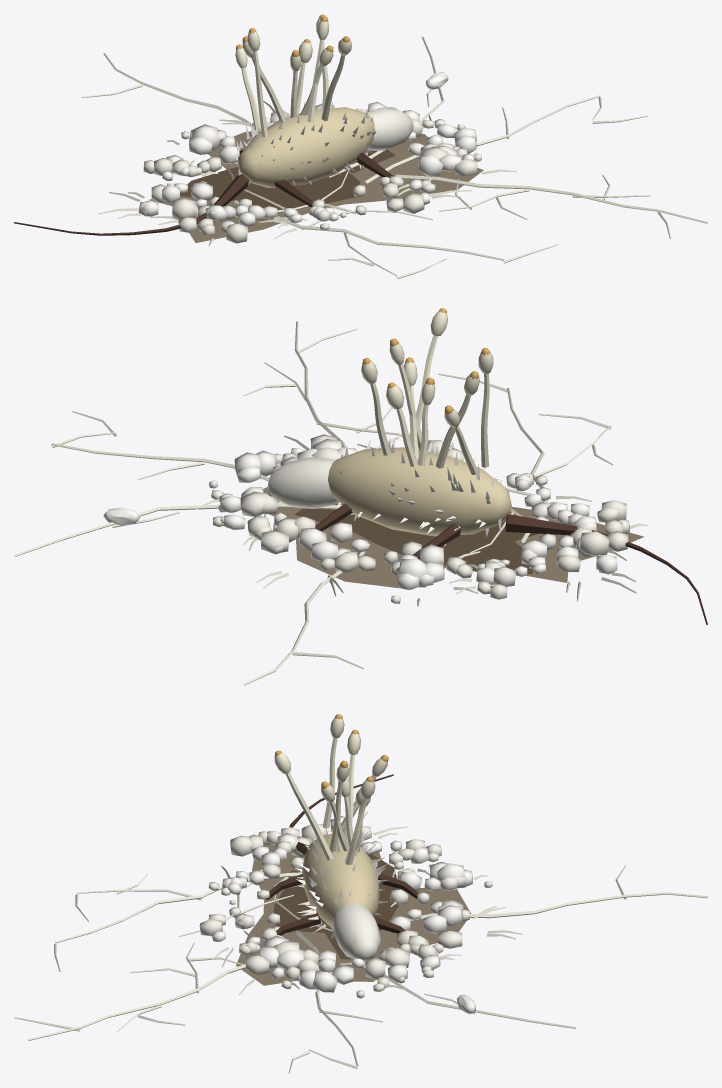
The model's file is fungus_floor@2.glb.
3 views of the same model, one above another, from view 1: azimuth 30°, elevation 25°; view 2: azimuth 150°, elevation 25°; view 3: azimuth 270°, elevation 25° (orthographic). The views are drawn at different scales.
Parts seen in each view (by area): view 1: teil2, teil8, teil9, teil11, teil6, teil0, teil1, teil4, teil3, teil10, teil5; view 2: teil2, teil8, teil9, teil6, teil11, teil1, teil0, teil3, teil4, teil10, teil5; view 3: teil8, teil9, teil11, teil6, teil0, teil2, teil1, teil3, teil4, teil5, teil10.
Part boxes in pixels (box(x1,y1,x2,y2)): teil2: box(237, 107, 375, 187); teil8: box(143, 104, 481, 243); teil9: box(138, 102, 476, 226); teil11: box(81, 36, 707, 279); teil6: box(235, 18, 351, 136); teil0: box(149, 131, 483, 242); teil1: box(180, 149, 395, 209); teil4: box(14, 150, 403, 235); teil3: box(367, 107, 413, 150); teil10: box(98, 101, 516, 246); teil5: box(234, 100, 376, 188); teil2: box(328, 447, 512, 536); teil8: box(209, 434, 629, 603); teil9: box(220, 439, 617, 590); teil6: box(361, 311, 493, 474); teil11: box(14, 321, 613, 685); teil1: box(294, 504, 539, 574); teil0: box(263, 487, 644, 589); teil3: box(267, 457, 338, 508); teil4: box(315, 503, 707, 624); teil10: box(195, 435, 648, 606); teil5: box(336, 437, 505, 546); teil8: box(199, 823, 492, 998); teil9: box(212, 816, 472, 992); teil11: box(14, 865, 707, 1073); teil6: box(274, 717, 388, 864); teil0: box(236, 843, 471, 985); teil2: box(302, 833, 379, 928); teil1: box(272, 854, 399, 959); teil3: box(332, 903, 380, 961); teil4: box(266, 774, 418, 939); teil5: box(295, 828, 387, 938); teil10: box(213, 811, 522, 994).
Bounding box in the file's own units: 0.6767 × 0.1846 × 0.6637.
